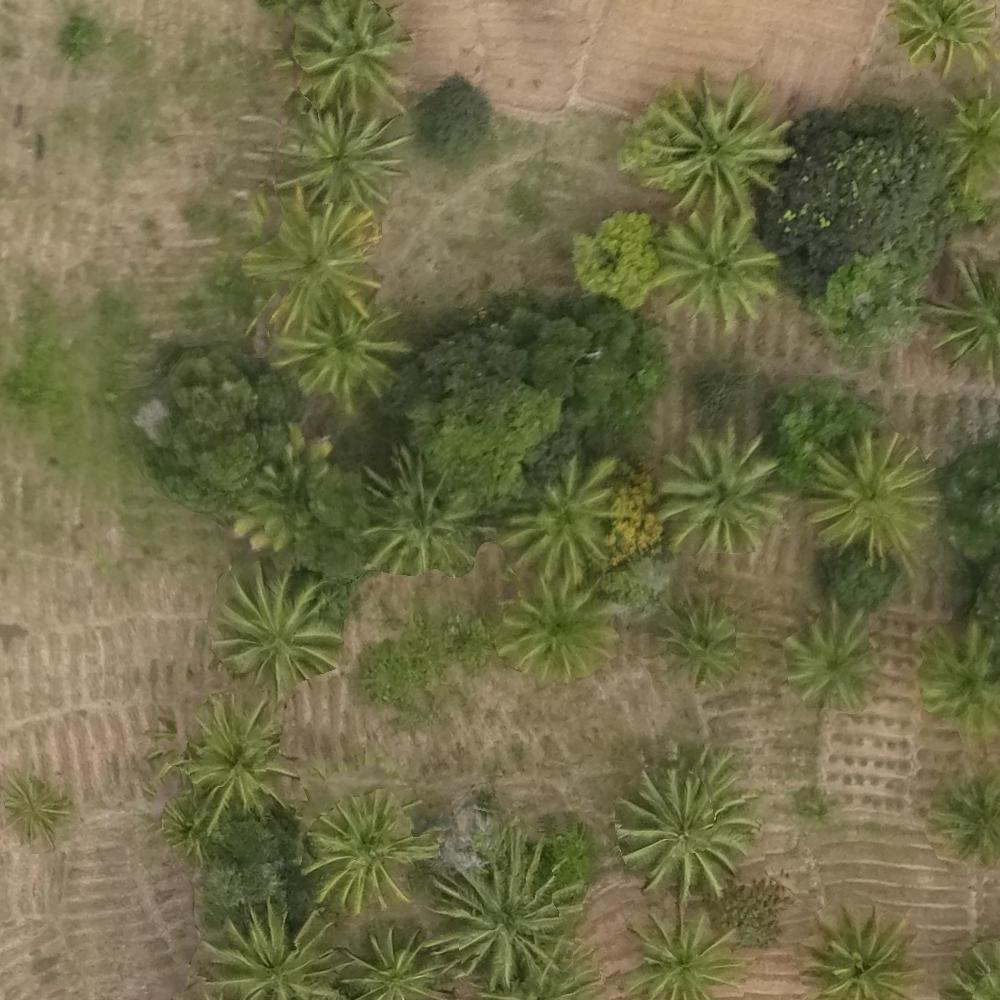Palm: (434, 835, 575, 982), (617, 764, 747, 894), (657, 80, 788, 204), (810, 434, 931, 563), (200, 899, 346, 1000), (664, 438, 789, 555), (216, 571, 335, 691), (286, 5, 406, 114), (253, 206, 373, 315), (367, 448, 472, 569), (308, 797, 421, 908), (279, 309, 407, 406), (284, 108, 403, 210), (661, 212, 772, 321), (516, 466, 623, 574), (800, 904, 919, 1000), (508, 577, 613, 681), (622, 909, 739, 1000), (190, 706, 291, 807), (907, 628, 1000, 729), (780, 608, 880, 701), (339, 923, 452, 1000), (660, 592, 754, 684), (891, 1, 995, 83), (923, 775, 1000, 858), (1, 774, 71, 850)
